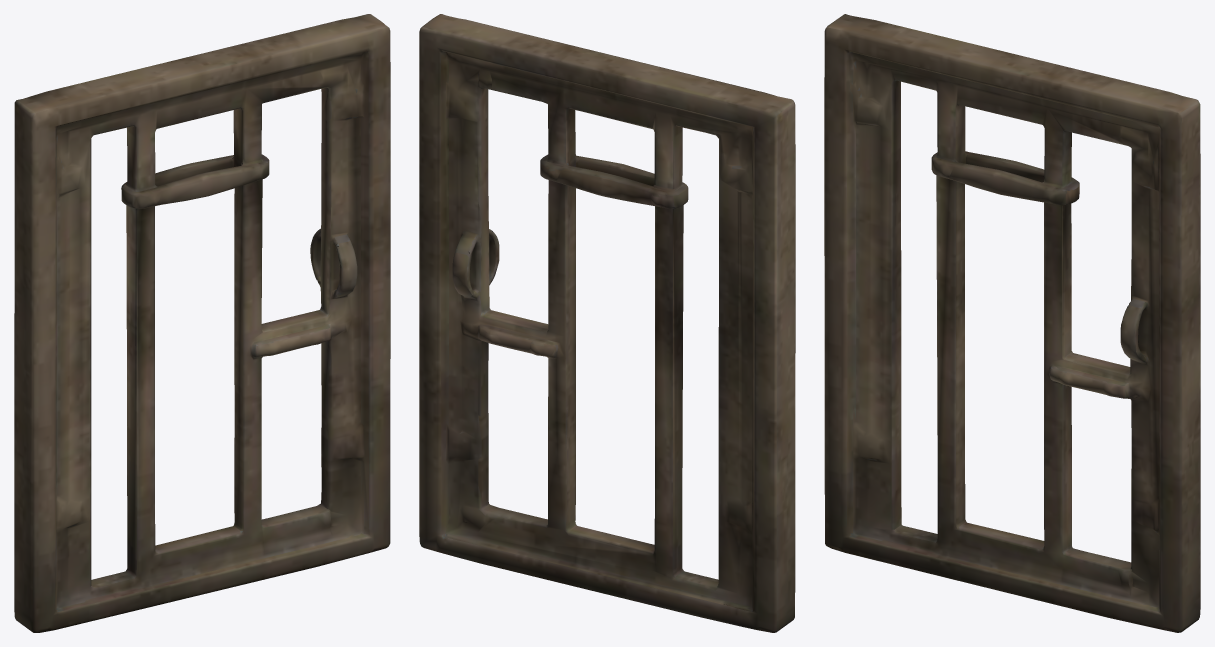
Rendered from simple-wood-cell-door-v002.glb.
3 renders of one model, left to right at view 1: azimuth 30°, elevation 25°; view 2: azimuth 150°, elevation 25°; view 3: azimuth 330°, elevation 25°, orthographic.
Visible parts, largest first — view 1: simple-wood-cell-door; view 2: simple-wood-cell-door; view 3: simple-wood-cell-door.
Boxes of the visible parts, left/top/right/bottom form: simple-wood-cell-door: left=14, top=14, right=390, bottom=632; simple-wood-cell-door: left=419, top=14, right=795, bottom=632; simple-wood-cell-door: left=824, top=14, right=1200, bottom=632.
Size of the model in its own units: 1.5 by 2.09 by 0.2433.
1 material, 1 textured.
